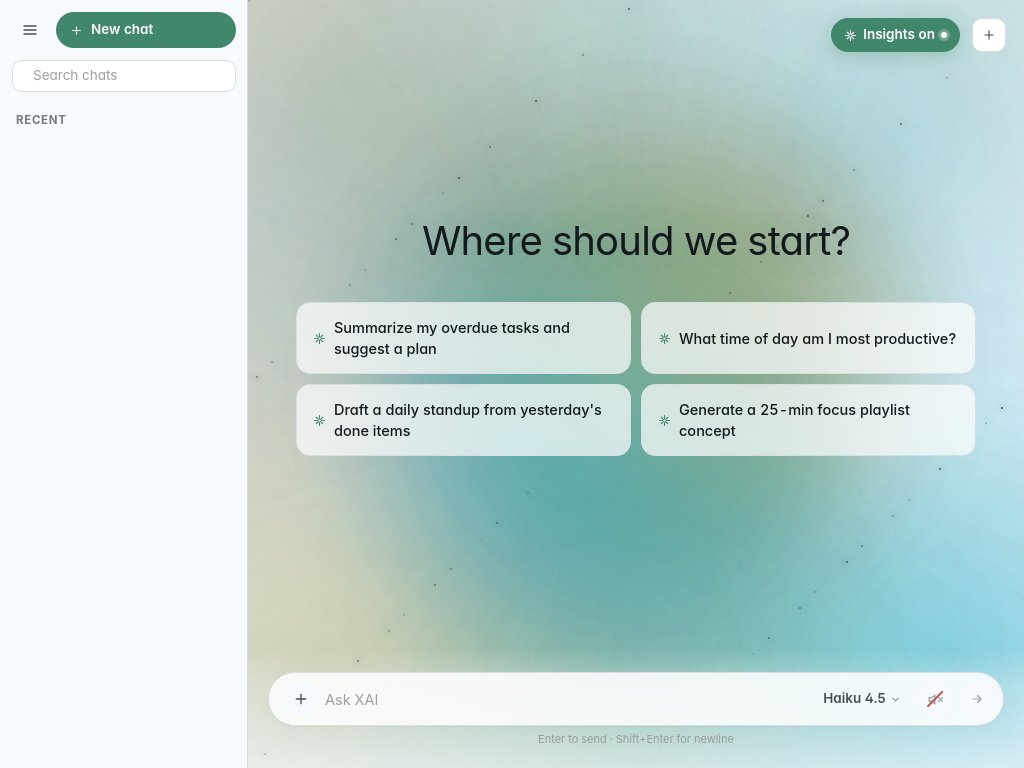
it: AiChatModule integration (I) › I5: localStorage xai_ai_convos contains a new convo after first send
The width and height of the screenshot is (1024, 768).
Type "weekly review" into the field with class "ai-input" at (566,699), box [325, 682, 807, 716]
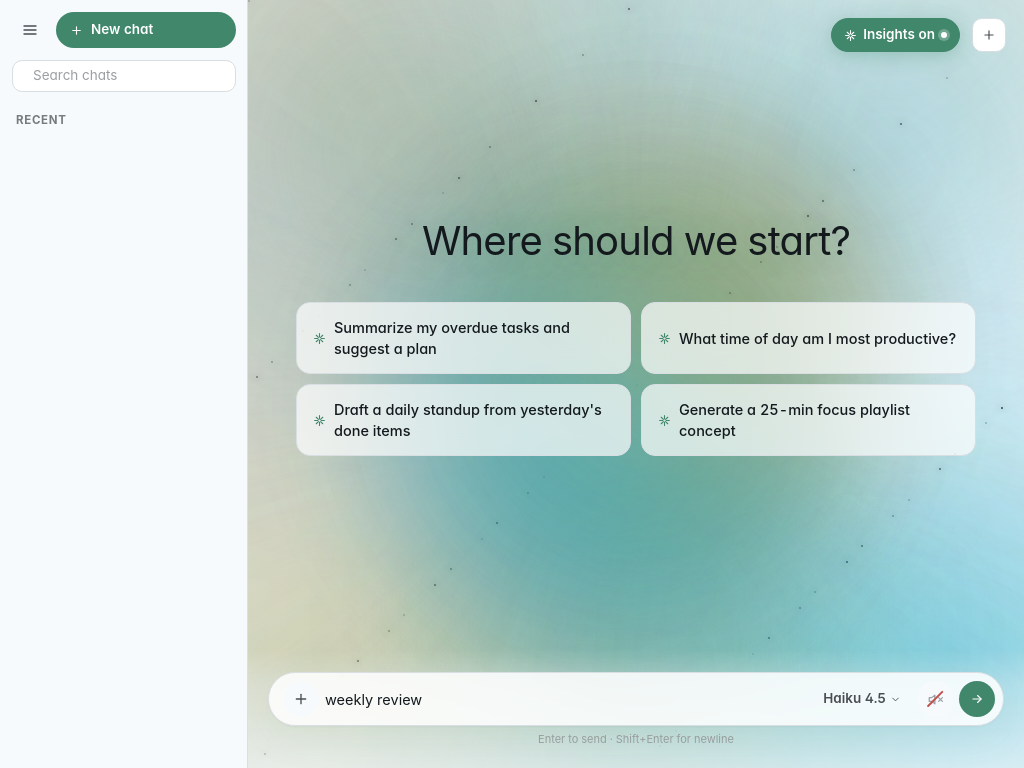
Press Enter in the field with class "ai-input", box [325, 682, 807, 716]
Wait 1250 ms
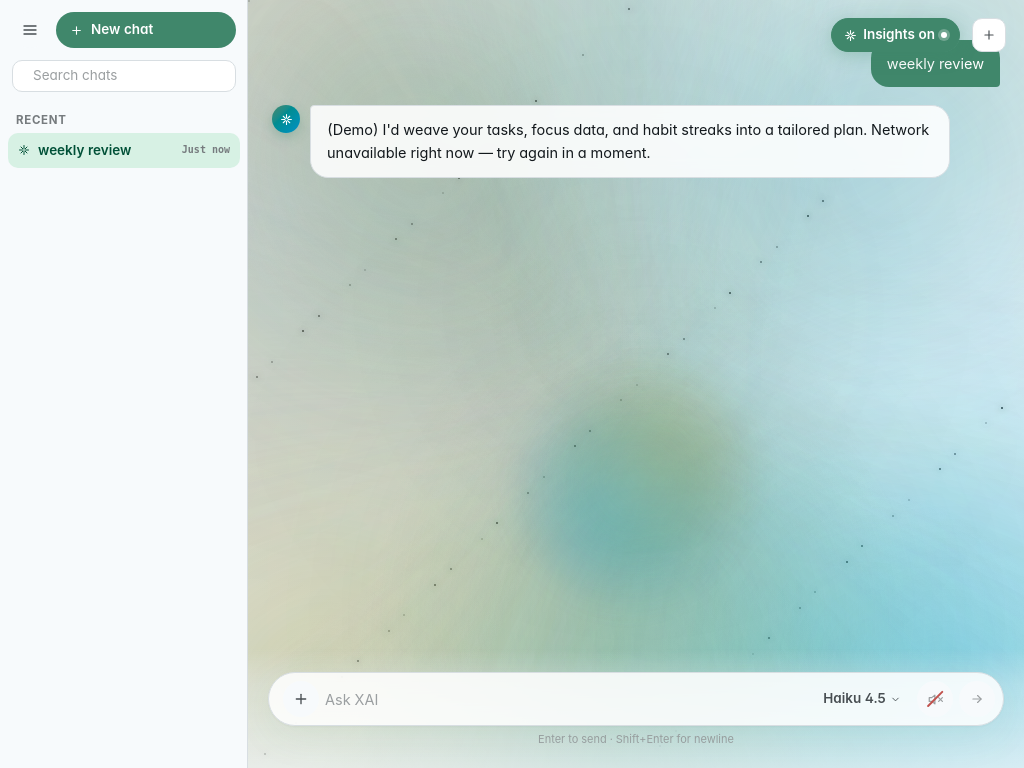
Expected: the text "weekly review" below "Recent" is shown, [38, 142, 131, 158]
